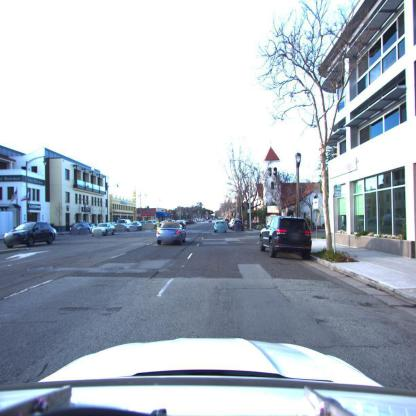car: (0, 337, 416, 416), (260, 217, 314, 259), (4, 221, 58, 249), (155, 221, 187, 247), (91, 223, 116, 237), (70, 221, 93, 236), (115, 218, 134, 233), (124, 221, 143, 231), (214, 221, 228, 233), (229, 219, 243, 230)
